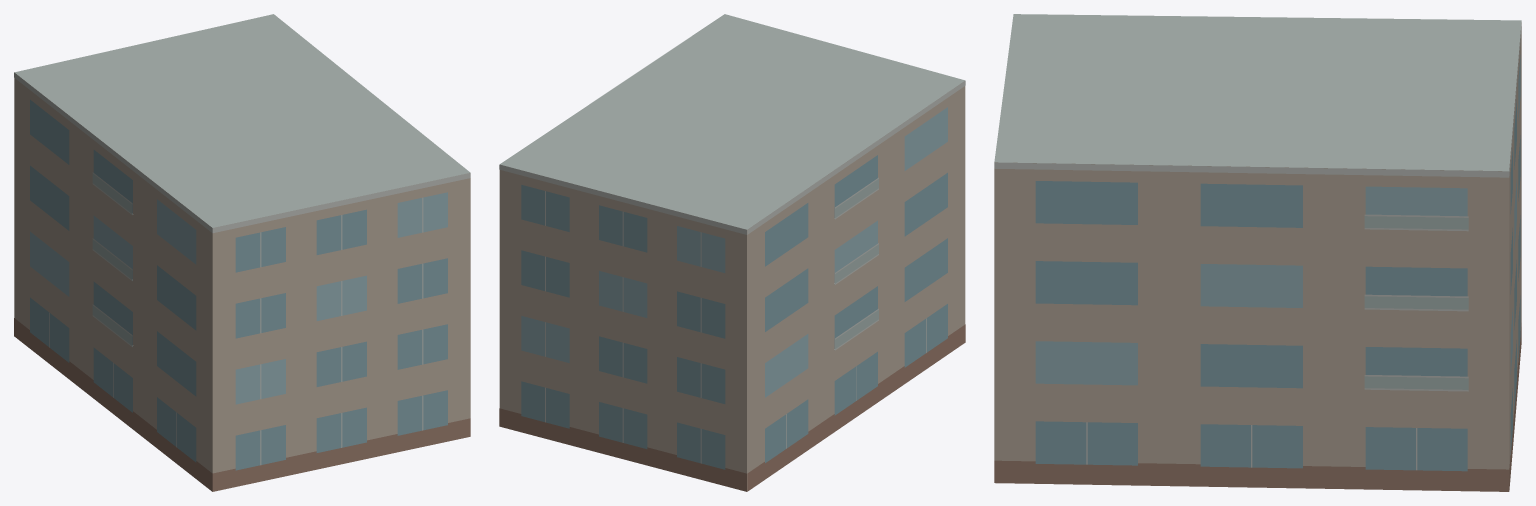
File: survey-upis-32769331.glb
The picture shows the model from 3 angles, left to right: view 1: azimuth 30°, elevation 25°; view 2: azimuth 150°, elevation 25°; view 3: azimuth 270°, elevation 25°; orthographic projection. The views are drawn at different scales.
Parts seen in each view (by area): view 1: survey-upis-32769331.tmp; view 2: survey-upis-32769331.tmp; view 3: survey-upis-32769331.tmp.
Part boxes in pixels (<box>): survey-upis-32769331.tmp: <box>14,14,470,491</box>; survey-upis-32769331.tmp: <box>499,14,965,491</box>; survey-upis-32769331.tmp: <box>994,14,1521,491</box>.
Size of the model in its own units: 12.84 by 12.2 by 18.2.
